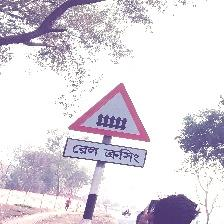Rail-crossing: (64, 83, 151, 167)
